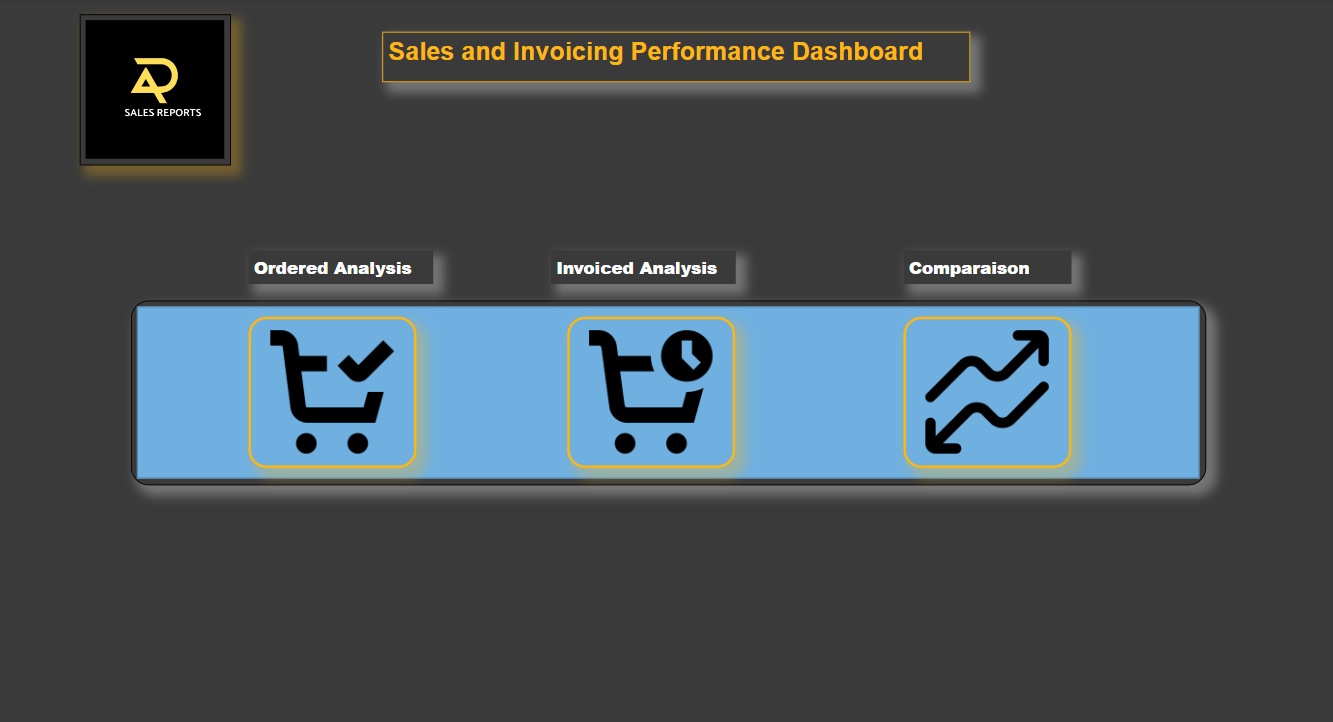

Layout of this report page (visuals, bound fields, positions):
{"tool":"powerbi","page":{"name":"Home","canvas":[1280,720],"ordinal":0},"visuals":[{"type":"shape","box":[128,288,1024,176],"z":0},{"type":"image","box":[864,304,160,144],"z":1000},{"type":"image","box":[240,304,160,144],"z":2000},{"type":"image","box":[544,304,160,144],"z":3000},{"type":"textbox","box":[240,240,176,32],"z":4000},{"type":"textbox","box":[864,240,160,32],"z":5000},{"type":"textbox","box":[528,240,176,32],"z":6000},{"type":"actionButton","box":[240,224,176,240],"z":7000},{"type":"actionButton","box":[528,240,192,240],"z":8000},{"type":"actionButton","box":[848,224,192,240],"z":9000},{"type":"textbox","box":[368,32,560,48],"z":10000},{"type":"image","box":[80,16,144,144],"z":11000}]}

Visuals, with their boxes on the page's 1280x720 design canvas (x1, y1, x2, y2). These are canvas units, not pixel positions in the 1333x722 screenshot, which may show the page scaled, cropped or inside an application window:
shape: select_region(128, 288, 1152, 464)
image: select_region(864, 304, 1024, 448)
image: select_region(240, 304, 400, 448)
image: select_region(544, 304, 704, 448)
textbox: select_region(240, 240, 416, 272)
textbox: select_region(864, 240, 1024, 272)
textbox: select_region(528, 240, 704, 272)
actionButton: select_region(240, 224, 416, 464)
actionButton: select_region(528, 240, 720, 480)
actionButton: select_region(848, 224, 1040, 464)
textbox: select_region(368, 32, 928, 80)
image: select_region(80, 16, 224, 160)
